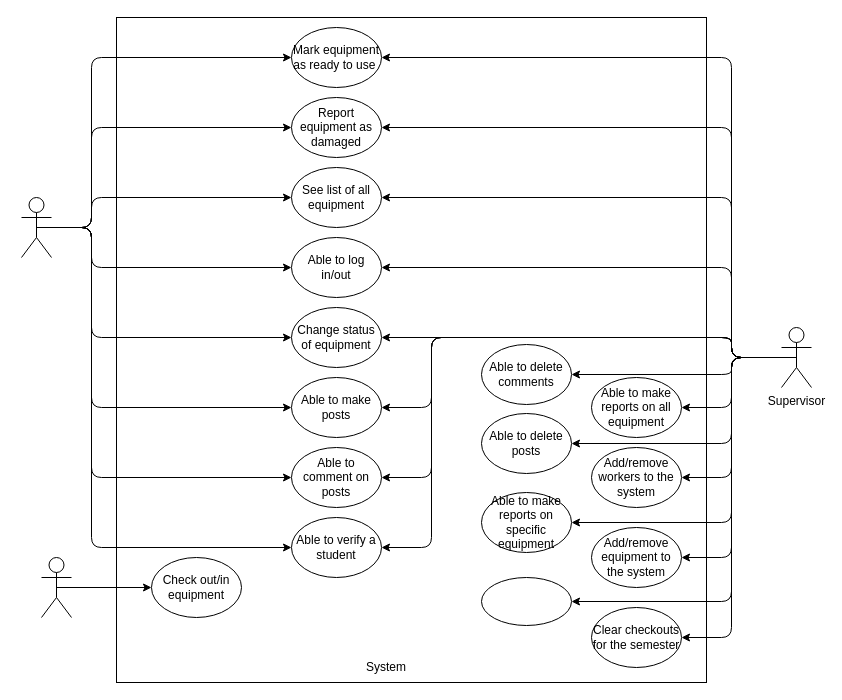
Image size: 842x700. Some labels were removed from this diagram. Here are the shapes that lost their labels. From the top down, the centre of each, then its label:
the point at 36,227: Worker
the point at 56,587: Student
the point at 526,601: Make report on equipment usage by student
